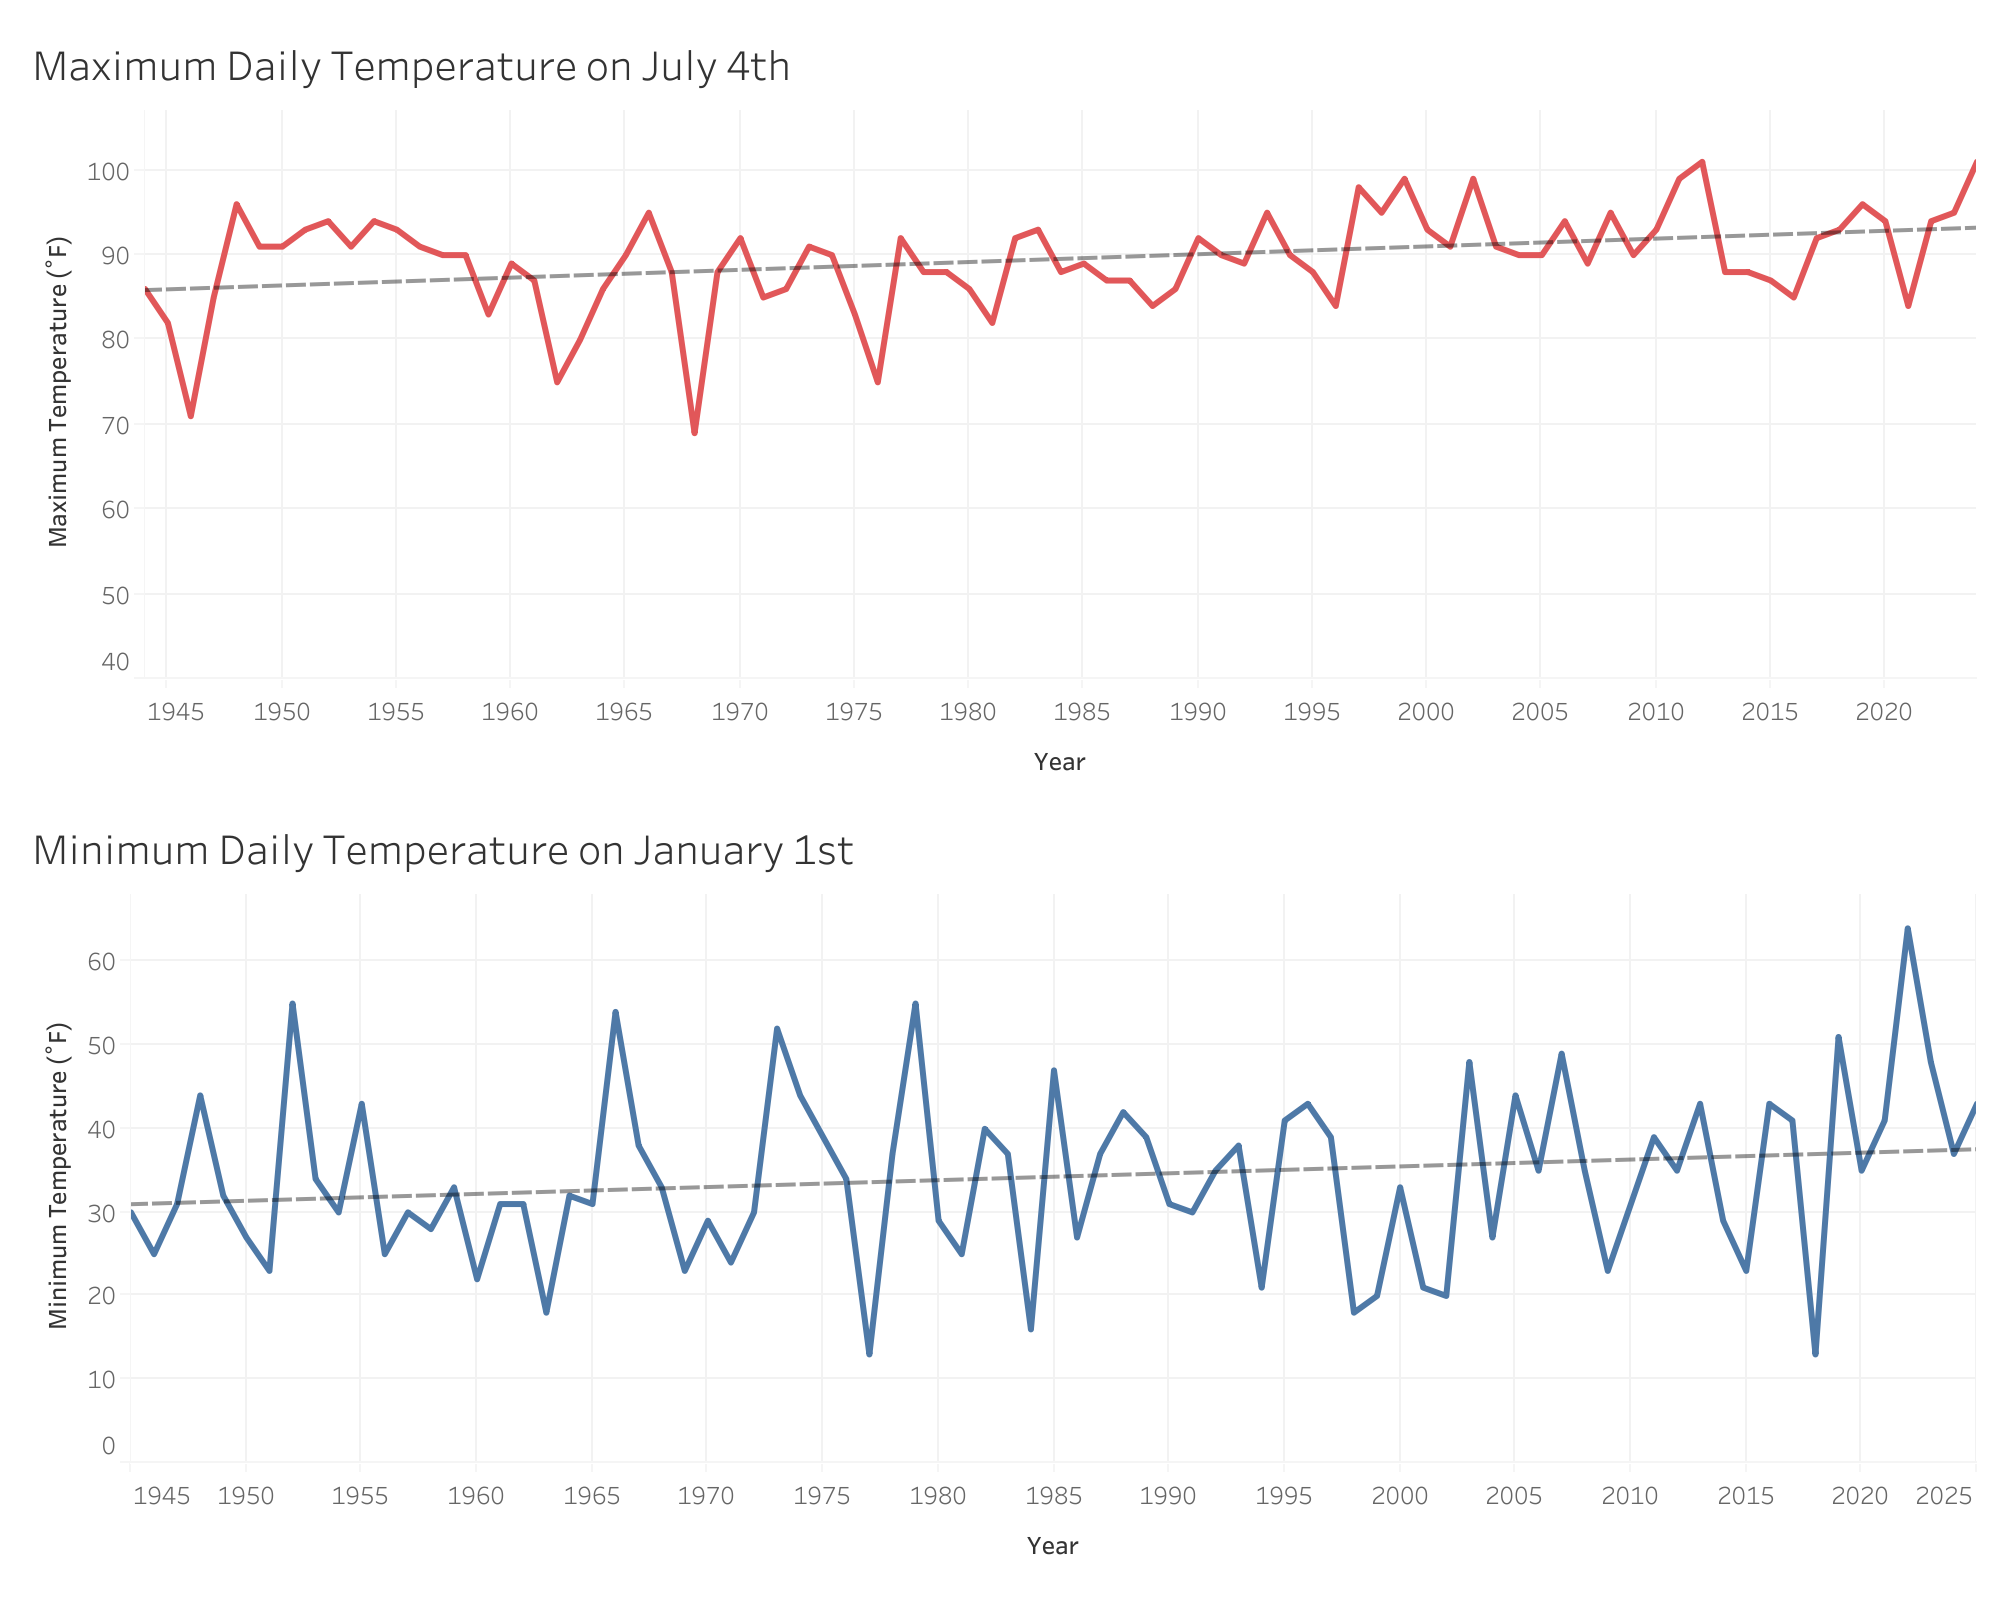

What the dashboard file says about the page in this screenshot:
{"tool":"tableau","page":{"name":"Temperature","canvas":[1000,800],"ordinal":1},"visuals":[{"type":"worksheet","title":"Maximum Daily Temperature on July 4th","mark":"Automatic","rows":["TMAX (Degrees Fahrenheit)"],"cols":["Calculation_1125944180387883"],"box":[8,8,984,392]},{"type":"worksheet","title":"Minimum Daily Temperature on January 1st","mark":"Automatic","rows":["TMIN (Degrees Fahrenheit)"],"cols":["Calculation_1125944180387883"],"box":[8,400,984,392]}]}

Visuals, with their boxes in screenshot pixels (x1, y1, x2, y2), scaled from the page's 1000x800 canvas onto the 2000x1600 screenshot:
"Maximum Daily Temperature on July 4th" worksheet: crop(16, 16, 1984, 800)
"Minimum Daily Temperature on January 1st" worksheet: crop(16, 800, 1984, 1584)
